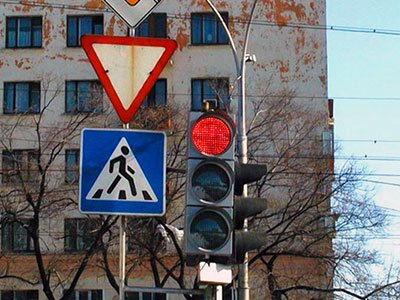crosswalk: (84, 132, 160, 209)
trafficlight_red: (191, 113, 232, 254)
